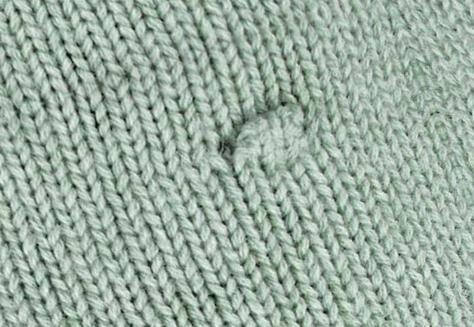knot: (221, 103, 305, 172)
